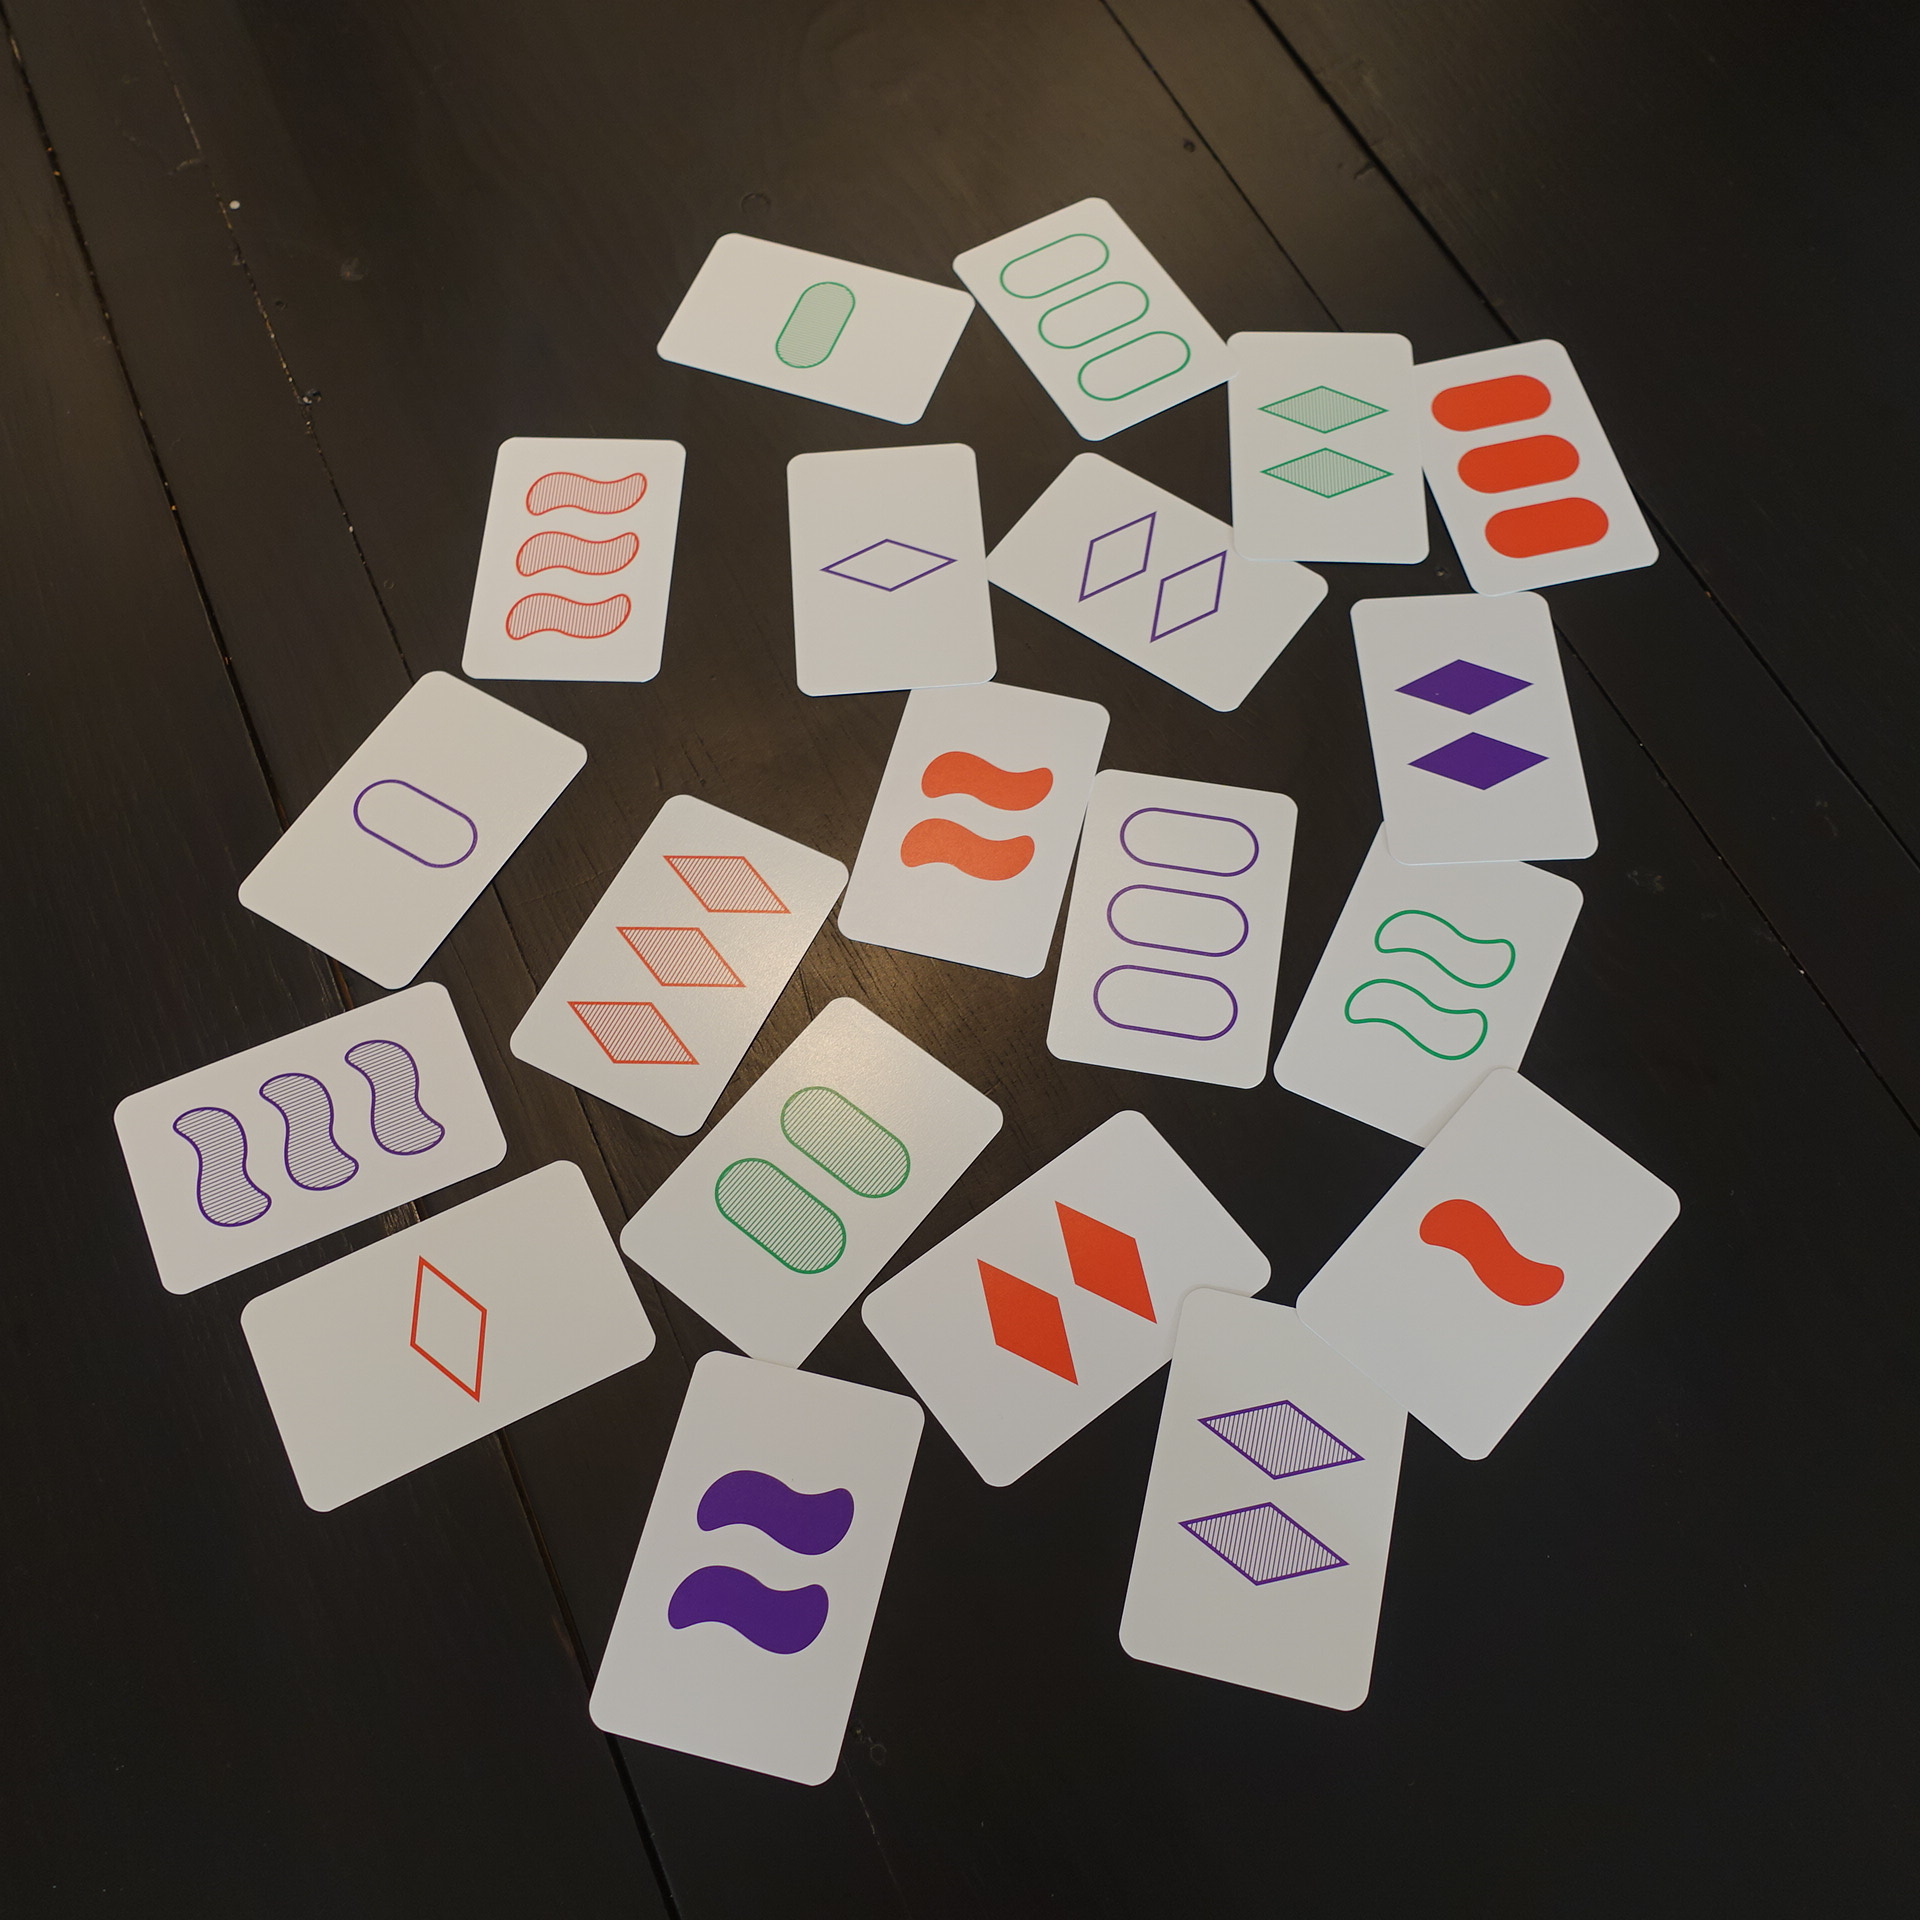c-1-f-s-r: (1285, 1058, 1693, 1472)
c-1-h-o-r: (642, 222, 976, 434)
c-1-u-d-r: (222, 1153, 665, 1523), (770, 433, 1002, 702)
c-1-u-o-r: (225, 665, 594, 995)
c-2-f-d-r: (856, 1097, 1284, 1500), (1329, 578, 1607, 879)
c-2-f-s-r: (584, 1340, 932, 1792), (832, 659, 1118, 990)
c-2-h-d-r: (1113, 1278, 1429, 1718), (499, 788, 855, 1146), (1206, 322, 1438, 580)
c-2-h-o-r: (608, 993, 1011, 1384)
c-2-u-d-r: (983, 445, 1338, 723)
c-2-u-s-r: (1268, 805, 1593, 1166)
c-3-f-o-r: (1380, 332, 1670, 610)
c-3-h-s-r: (107, 972, 513, 1308), (450, 420, 695, 695)
c-3-u-o-r: (1036, 761, 1306, 1097), (946, 183, 1245, 452)
